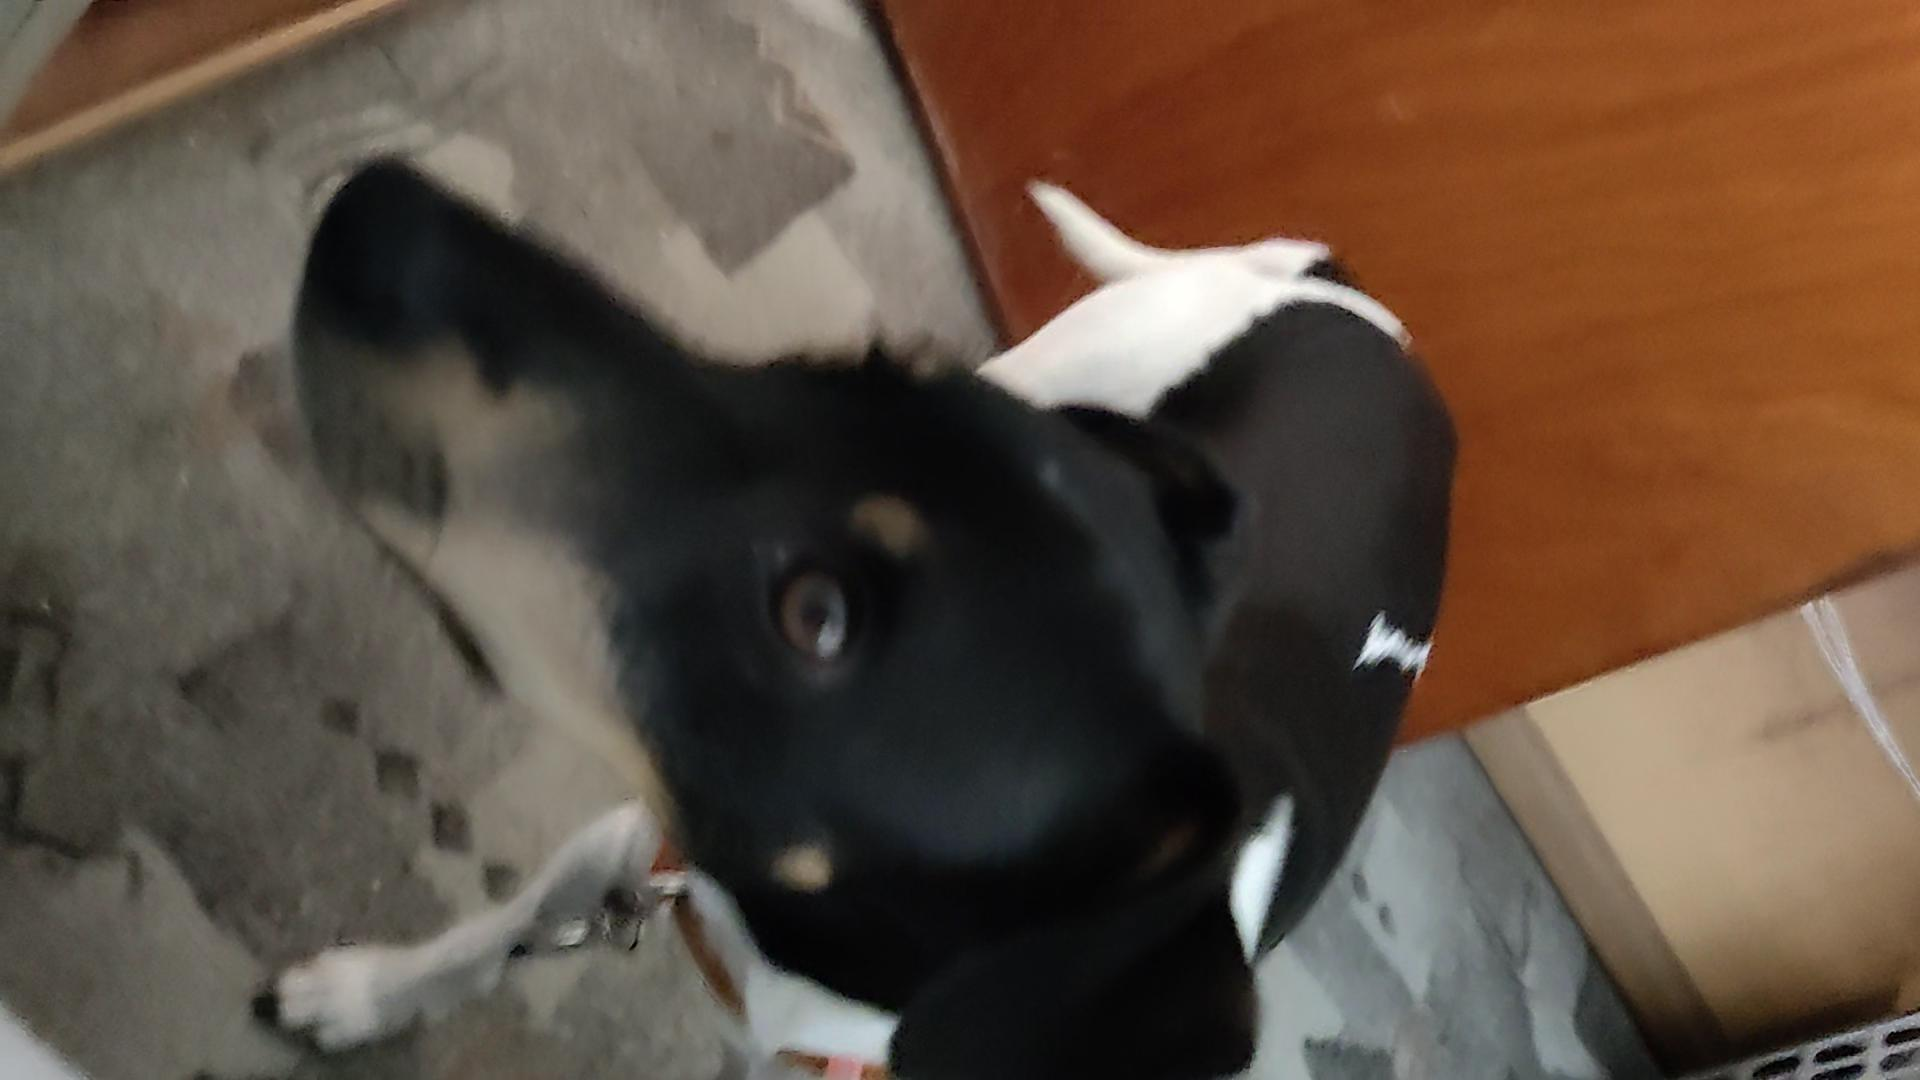Dog: (244, 150, 1469, 1079)
